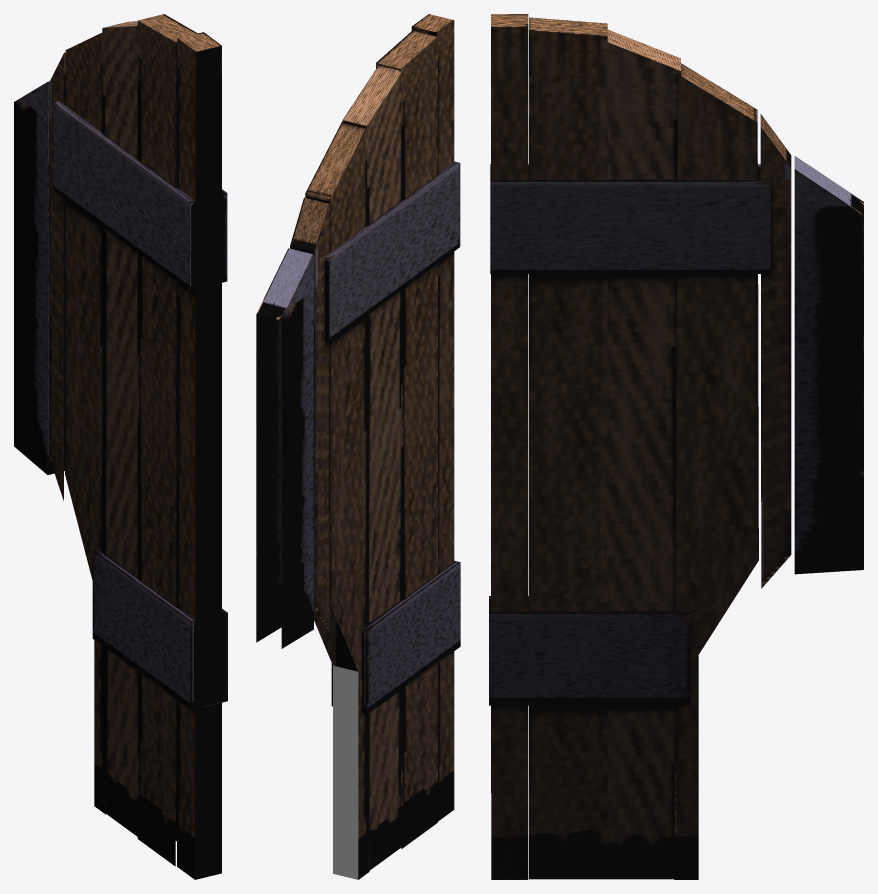
Rendered from DoorSide1_0.obj.
3 renders of one model, left to right at view 1: azimuth 30°, elevation 25°; view 2: azimuth 150°, elevation 25°; view 3: azimuth 270°, elevation 25°, orthographic. The views are drawn at different scales.
Visible parts, largest first — view 1: object 2; view 2: object 2, Cube.025_Cube.423; view 3: object 2.
Boxes of the visible parts, x1,y1,x2,y2 form: object 2: (14, 14, 227, 879); object 2: (256, 14, 460, 879); Cube.025_Cube.423: (333, 665, 358, 879); object 2: (489, 14, 863, 879).
Size of the model in its own units: 12.66 by 268 by 107.
